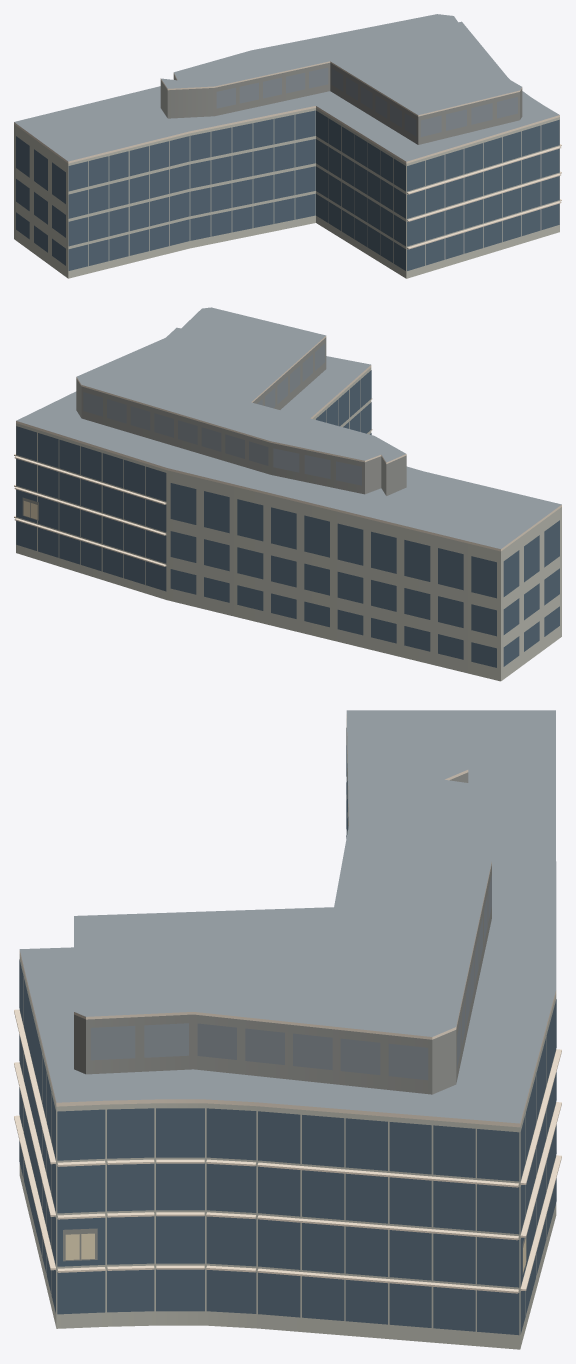
The model's file is dc-au-hall-of-science.glb.
3 views of the same model, one above another, from view 1: azimuth 30°, elevation 25°; view 2: azimuth 150°, elevation 25°; view 3: azimuth 270°, elevation 25° (orthographic). The views are drawn at different scales.
Parts seen in each view (by area): view 1: Hall of Science; view 2: Hall of Science; view 3: Hall of Science.
Part boxes in pixels (bbox=[...]): Hall of Science: bbox=[14, 14, 561, 278]; Hall of Science: bbox=[14, 307, 561, 681]; Hall of Science: bbox=[14, 710, 561, 1349].
Bounding box in the file's own units: 82.39 × 26.22 × 45.89.
